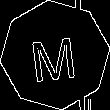M_N: (29, 27, 81, 83)
